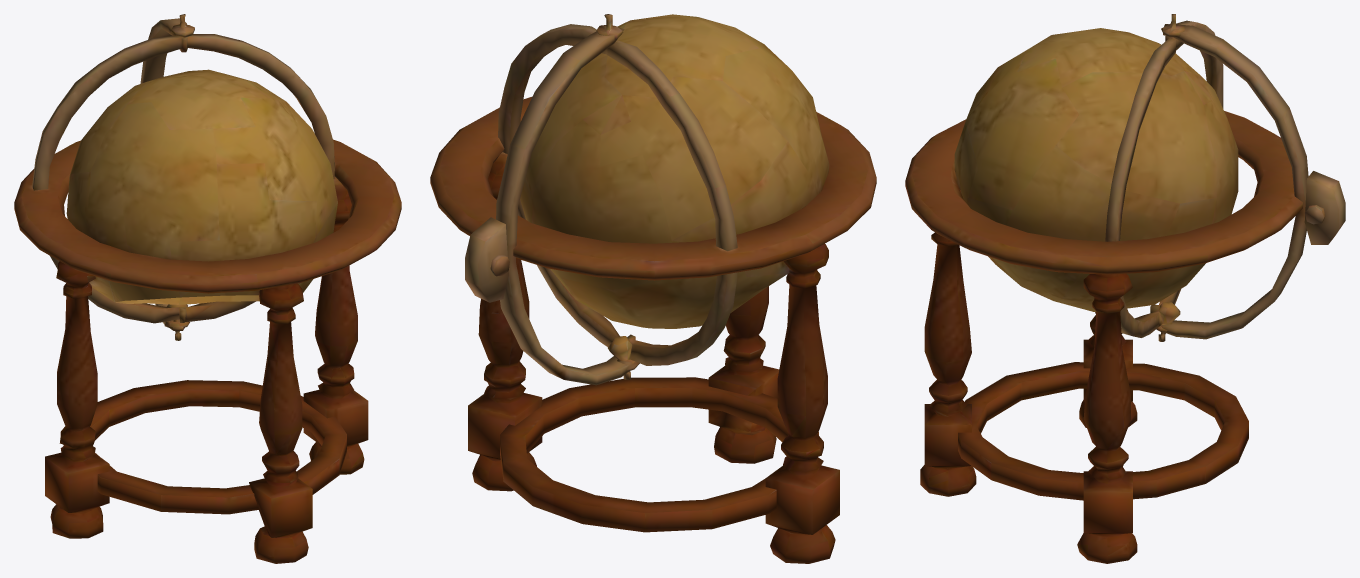
File: wyn_furn_globe_stand.glb
The picture shows the model from 3 angles, left to right: view 1: azimuth 30°, elevation 25°; view 2: azimuth 150°, elevation 25°; view 3: azimuth 270°, elevation 25°; orthographic projection. The views are drawn at different scales.
Parts seen in each view (by area): view 1: tripo_node_b2e8cb3e-fd64-41b6-9d3b-0ef087af3a5e; view 2: tripo_node_b2e8cb3e-fd64-41b6-9d3b-0ef087af3a5e; view 3: tripo_node_b2e8cb3e-fd64-41b6-9d3b-0ef087af3a5e.
Boxes of the visible parts, x1,y1,x2,y2 form: tripo_node_b2e8cb3e-fd64-41b6-9d3b-0ef087af3a5e: (14, 14, 401, 563); tripo_node_b2e8cb3e-fd64-41b6-9d3b-0ef087af3a5e: (430, 14, 876, 563); tripo_node_b2e8cb3e-fd64-41b6-9d3b-0ef087af3a5e: (905, 14, 1345, 563).
Size of the model in its own units: 0.9296 by 1.2 by 1.01.
Materials: 1 (1 with a texture image).
